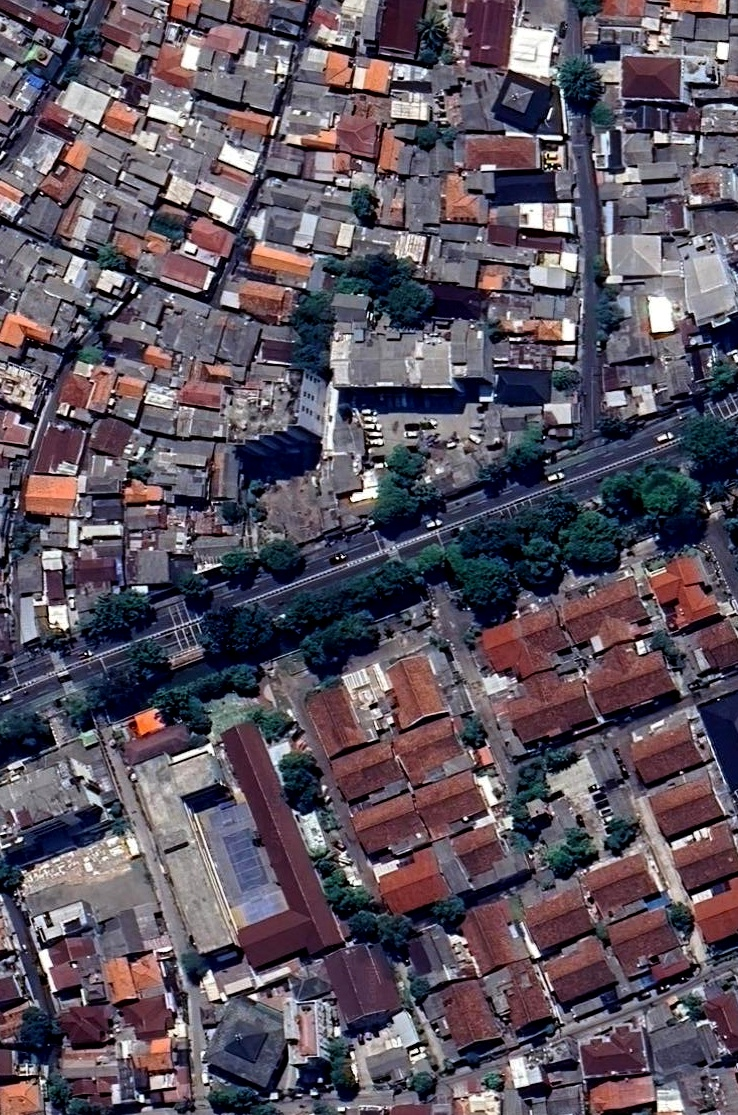building: (217, 716, 343, 958), (126, 751, 241, 957), (0, 724, 130, 866), (210, 356, 343, 466), (172, 12, 299, 118), (333, 313, 493, 389), (344, 645, 467, 737), (603, 295, 690, 415), (553, 568, 656, 663), (204, 990, 298, 1092), (420, 974, 508, 1071), (498, 660, 597, 746), (477, 602, 572, 686), (583, 635, 677, 719), (536, 927, 625, 1015), (436, 816, 535, 895), (0, 0, 68, 113), (346, 784, 436, 867), (322, 936, 402, 1028), (581, 845, 667, 927), (482, 954, 559, 1045), (458, 892, 538, 978), (189, 42, 286, 112), (412, 764, 499, 842), (392, 712, 482, 785), (646, 549, 724, 633), (400, 913, 478, 994), (673, 227, 738, 324), (303, 675, 379, 757), (373, 845, 456, 920), (605, 904, 686, 978), (606, 233, 685, 307), (574, 1013, 652, 1087), (664, 815, 738, 893), (617, 50, 722, 103), (519, 873, 596, 945), (626, 718, 707, 786), (92, 897, 174, 964), (54, 185, 125, 262), (128, 117, 212, 182), (648, 772, 725, 839), (279, 987, 338, 1074), (237, 905, 311, 973), (328, 737, 406, 801), (490, 67, 560, 138), (284, 76, 357, 144), (54, 354, 121, 427), (695, 687, 737, 798), (450, 0, 519, 67), (137, 241, 215, 296), (64, 123, 132, 186), (602, 288, 656, 360), (118, 992, 182, 1051), (687, 876, 738, 947), (649, 1018, 709, 1077), (96, 185, 158, 241), (310, 0, 381, 48), (64, 51, 132, 101), (100, 2, 165, 54), (35, 897, 105, 945), (304, 0, 367, 53), (97, 310, 165, 359), (607, 225, 666, 281), (35, 416, 89, 477), (210, 311, 265, 370), (125, 718, 192, 765), (245, 240, 318, 282), (258, 170, 326, 215), (361, 1040, 419, 1092), (58, 77, 117, 128), (588, 1074, 661, 1115), (233, 277, 297, 323), (0, 223, 45, 288), (490, 163, 563, 203), (296, 212, 356, 260), (231, 0, 310, 36), (419, 279, 486, 321), (425, 236, 482, 285), (0, 356, 49, 413), (379, 0, 427, 58), (396, 178, 443, 237), (183, 212, 238, 262), (150, 37, 205, 87), (354, 225, 426, 263), (15, 122, 66, 175), (186, 186, 248, 229), (697, 987, 738, 1052), (169, 749, 224, 797), (1, 0, 72, 37), (407, 130, 459, 180), (685, 159, 738, 208), (145, 78, 197, 127), (60, 1001, 114, 1048), (26, 472, 83, 516), (694, 620, 738, 677), (463, 134, 539, 167), (153, 452, 208, 497), (509, 26, 556, 78), (22, 191, 69, 242), (212, 131, 267, 174), (655, 348, 698, 403), (161, 306, 208, 356), (603, 353, 662, 391), (38, 157, 84, 205), (600, 385, 658, 423), (203, 158, 258, 198), (38, 930, 99, 966), (38, 271, 92, 311), (503, 225, 575, 255), (496, 367, 554, 404), (597, 128, 649, 169), (99, 954, 139, 1007), (15, 281, 61, 327), (319, 452, 364, 499), (685, 340, 727, 390), (0, 60, 41, 111), (445, 165, 484, 218), (0, 985, 36, 1042), (522, 203, 582, 237), (182, 109, 227, 153), (259, 204, 304, 247), (43, 954, 89, 996), (90, 415, 132, 461), (334, 116, 380, 158), (129, 951, 170, 998), (492, 337, 554, 368), (127, 283, 170, 327), (376, 124, 411, 178), (203, 15, 248, 56), (476, 262, 537, 292), (146, 1064, 190, 1105), (115, 1038, 143, 1102), (209, 443, 240, 500), (288, 962, 333, 1001), (70, 553, 117, 590), (21, 39, 63, 80), (332, 411, 369, 457), (487, 288, 538, 321), (0, 1074, 42, 1114), (373, 173, 404, 226), (504, 1050, 544, 1091), (103, 98, 143, 139), (133, 547, 171, 590), (132, 1039, 181, 1072), (178, 376, 227, 409), (85, 148, 127, 186), (89, 488, 131, 526), (320, 184, 363, 221), (99, 39, 144, 74), (138, 397, 179, 435), (458, 78, 487, 131), (22, 341, 61, 380), (261, 323, 299, 362), (159, 171, 198, 209), (266, 140, 306, 177), (227, 106, 273, 138), (0, 404, 35, 446), (642, 199, 689, 230), (18, 591, 46, 643), (93, 264, 133, 300), (529, 262, 578, 291), (178, 409, 221, 441), (129, 154, 171, 186), (115, 72, 153, 107), (323, 49, 357, 88), (688, 207, 737, 234), (123, 704, 167, 734), (0, 178, 30, 222), (533, 294, 580, 322), (329, 292, 370, 324), (695, 129, 736, 161), (77, 0, 113, 36), (301, 148, 340, 181), (335, 155, 374, 188), (87, 1072, 119, 1112), (546, 1083, 587, 1114), (59, 136, 94, 172), (108, 228, 146, 261), (43, 550, 68, 600), (173, 0, 229, 22), (654, 130, 696, 159), (43, 517, 81, 549), (427, 59, 465, 91), (15, 553, 43, 596), (195, 534, 239, 561), (188, 507, 224, 540), (337, 499, 375, 530), (637, 158, 682, 184), (694, 12, 733, 42), (111, 355, 156, 381), (623, 104, 671, 128), (651, 292, 679, 332), (140, 342, 177, 372), (306, 256, 336, 293), (45, 599, 74, 636), (124, 505, 166, 530), (366, 57, 395, 93), (387, 98, 431, 121), (598, 0, 646, 21), (612, 192, 649, 219), (122, 480, 163, 504), (702, 100, 737, 128), (504, 406, 543, 431), (538, 317, 578, 341), (61, 253, 89, 287), (143, 382, 178, 409), (110, 391, 142, 420), (79, 521, 124, 541), (218, 278, 245, 310), (118, 371, 148, 399), (496, 321, 542, 339), (120, 0, 166, 18), (579, 331, 588, 421), (302, 46, 330, 74), (671, 11, 698, 40), (673, 102, 699, 132), (440, 222, 479, 241), (551, 131, 567, 174), (0, 1044, 19, 1080), (1, 974, 21, 1007), (670, 0, 725, 12), (90, 538, 123, 558), (65, 1059, 99, 1078), (488, 225, 519, 245), (394, 232, 416, 259), (69, 1076, 96, 1097), (155, 527, 176, 552), (152, 368, 179, 387), (365, 236, 393, 254), (0, 467, 19, 493), (582, 17, 598, 46), (646, 235, 662, 263), (84, 981, 106, 1001), (726, 35, 737, 75), (487, 225, 501, 246), (632, 181, 646, 193), (414, 231, 425, 246), (507, 248, 520, 259), (647, 161, 658, 173), (625, 168, 638, 177), (560, 320, 566, 339), (449, 71, 457, 85)
tree: (273, 548, 419, 643), (78, 634, 177, 719), (443, 527, 524, 622), (292, 606, 388, 686), (343, 890, 421, 964), (515, 483, 590, 552), (556, 504, 632, 571), (638, 455, 705, 529), (302, 851, 372, 919), (674, 406, 738, 479), (376, 270, 444, 338), (197, 599, 278, 655), (539, 820, 603, 885), (275, 746, 328, 823), (80, 588, 154, 641), (374, 477, 438, 534), (150, 679, 217, 733), (500, 421, 559, 482), (186, 660, 261, 703), (13, 1001, 66, 1061), (252, 533, 306, 586), (512, 536, 565, 589), (458, 516, 523, 557), (35, 1070, 92, 1115), (558, 52, 607, 104), (215, 545, 264, 595), (2, 710, 53, 756), (369, 250, 418, 294), (293, 318, 331, 372), (248, 708, 295, 748), (52, 691, 95, 734), (598, 469, 640, 512), (211, 1086, 273, 1114), (329, 1040, 361, 1094), (179, 571, 221, 612), (699, 355, 738, 399), (387, 443, 428, 484), (175, 945, 214, 986), (507, 803, 541, 849), (431, 892, 473, 928), (508, 774, 551, 807), (701, 471, 738, 508), (419, 9, 454, 48), (596, 292, 626, 337), (296, 291, 332, 325), (411, 543, 448, 576), (606, 815, 639, 852), (217, 499, 248, 529), (589, 97, 619, 128), (409, 1065, 437, 1098), (417, 124, 457, 147), (544, 743, 578, 770), (96, 244, 130, 271), (473, 458, 504, 487), (0, 860, 25, 894), (549, 365, 578, 394), (336, 272, 374, 294), (350, 188, 376, 220), (669, 900, 694, 933), (324, 257, 370, 274), (589, 254, 612, 287), (413, 44, 442, 70), (151, 218, 185, 240), (682, 989, 706, 1020), (76, 341, 107, 365), (248, 477, 263, 520), (463, 715, 483, 746), (599, 418, 631, 436), (407, 975, 430, 1000), (521, 757, 543, 780), (460, 622, 482, 644), (480, 1068, 503, 1089), (483, 319, 504, 342), (82, 303, 102, 324), (438, 44, 457, 66), (429, 632, 451, 651), (130, 461, 150, 479), (721, 513, 738, 534), (314, 1099, 336, 1115), (565, 435, 583, 452), (319, 673, 338, 688)
